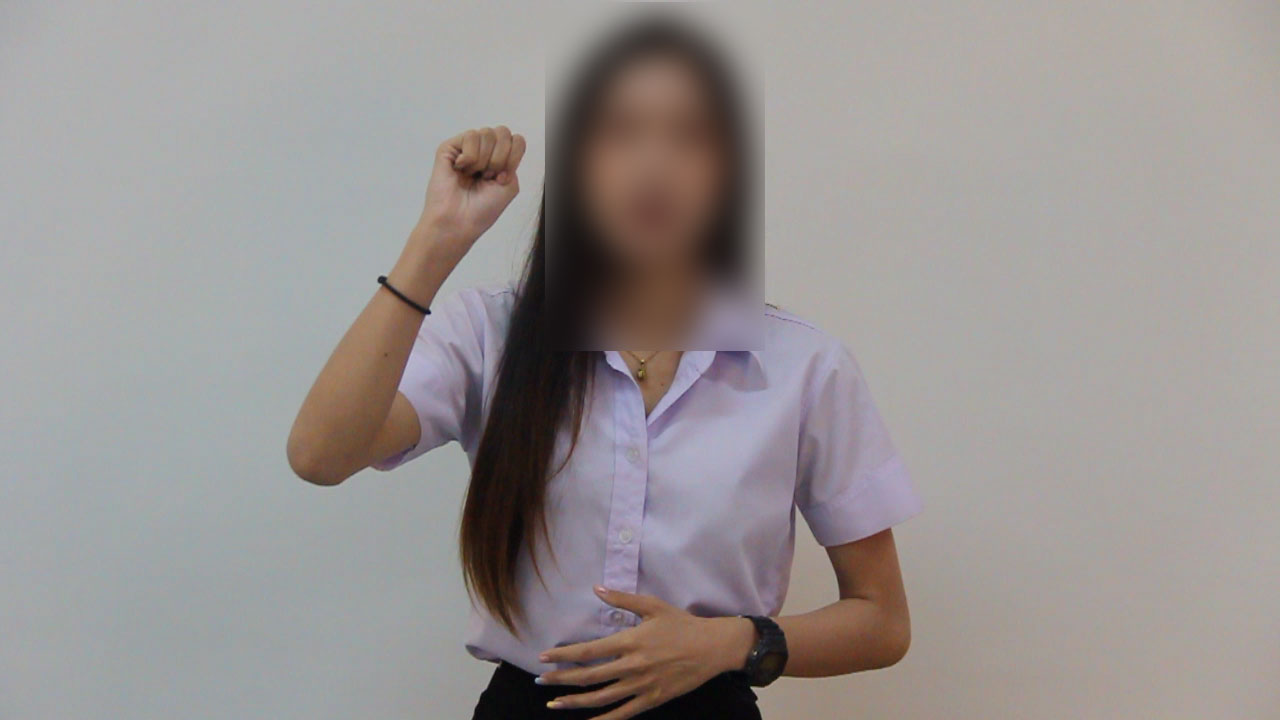sor: (421, 116, 531, 251)
